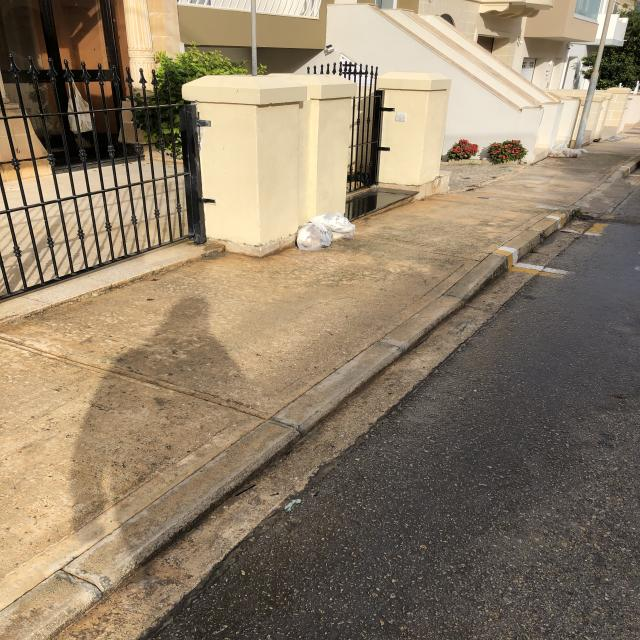Organic Waste -White Bag-: (298, 224, 334, 252), (311, 213, 356, 234), (549, 137, 570, 159), (564, 149, 589, 159), (329, 233, 355, 241)
